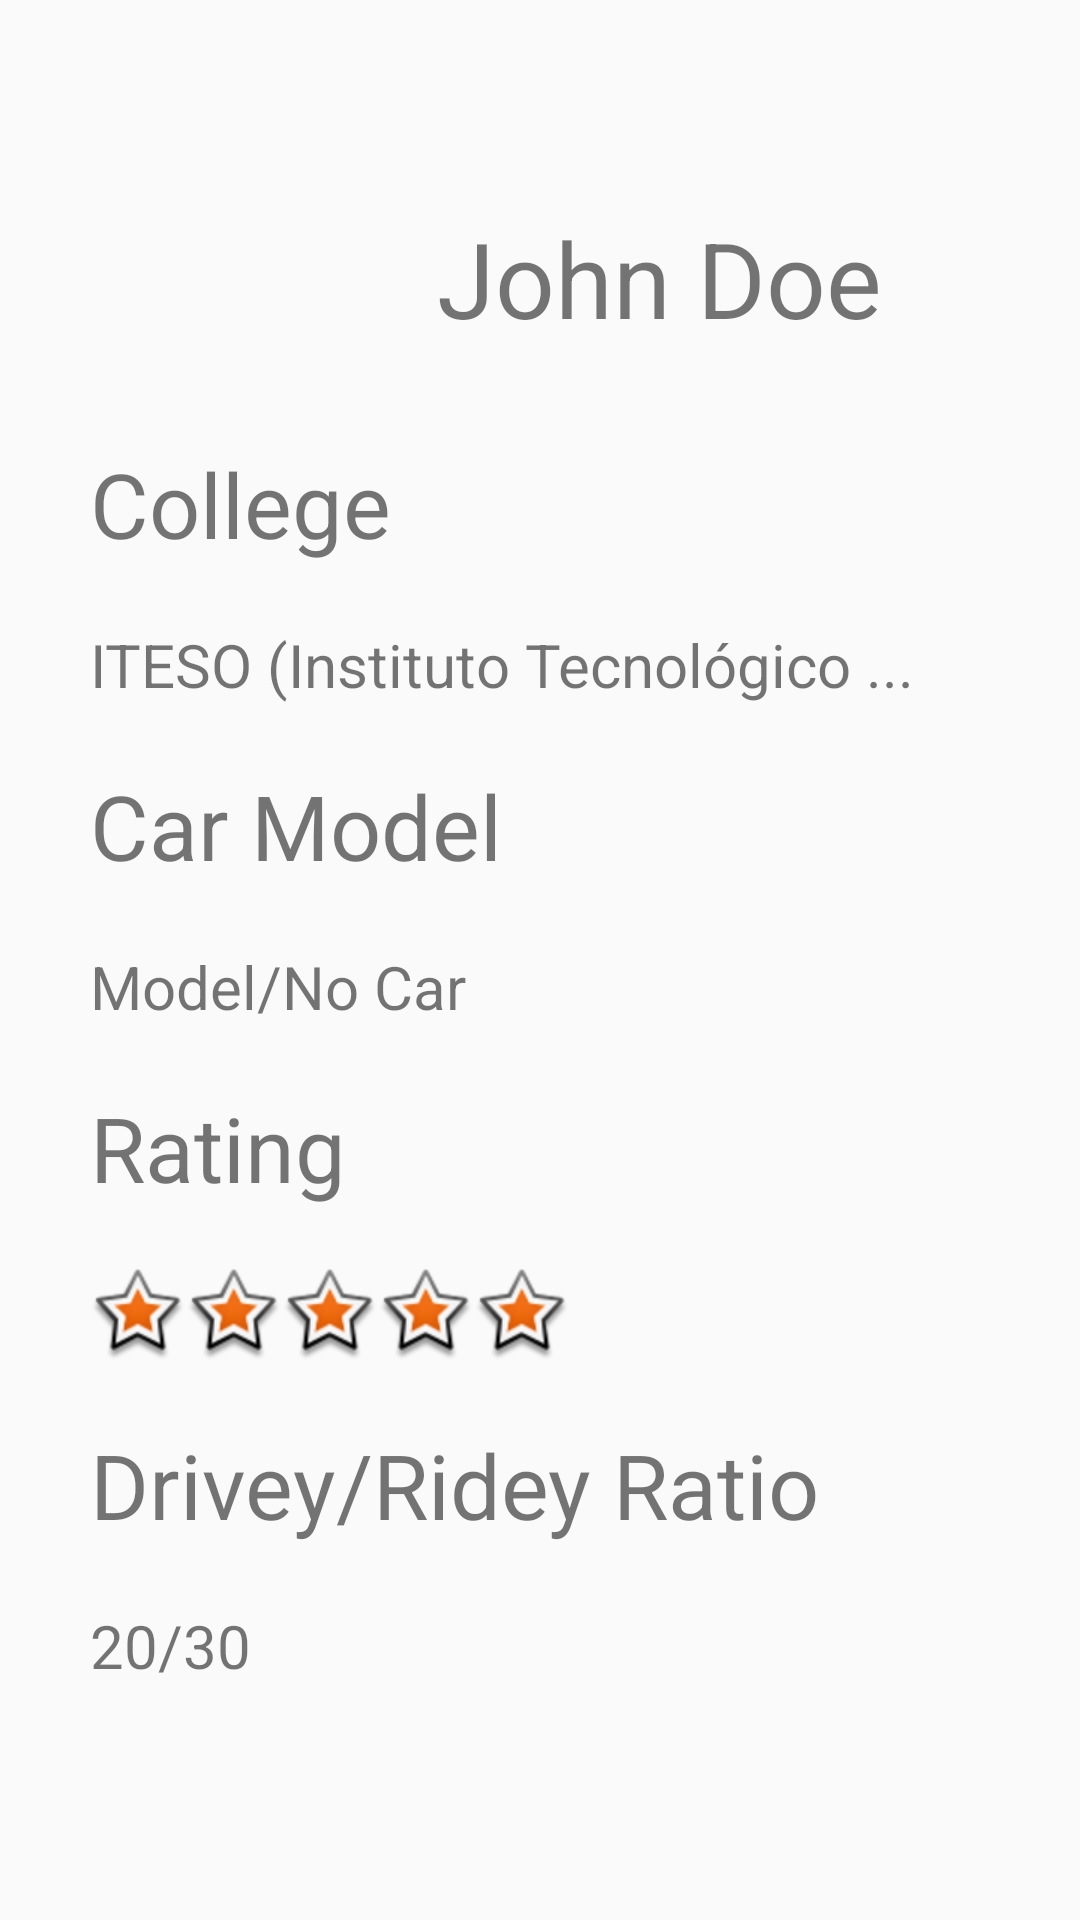

Where to tap for icons on this 1080 × 1920 app screen, as [x,y]:
star on: [138,1312], [234,1312], [330,1312], [426,1312], [522,1312]
